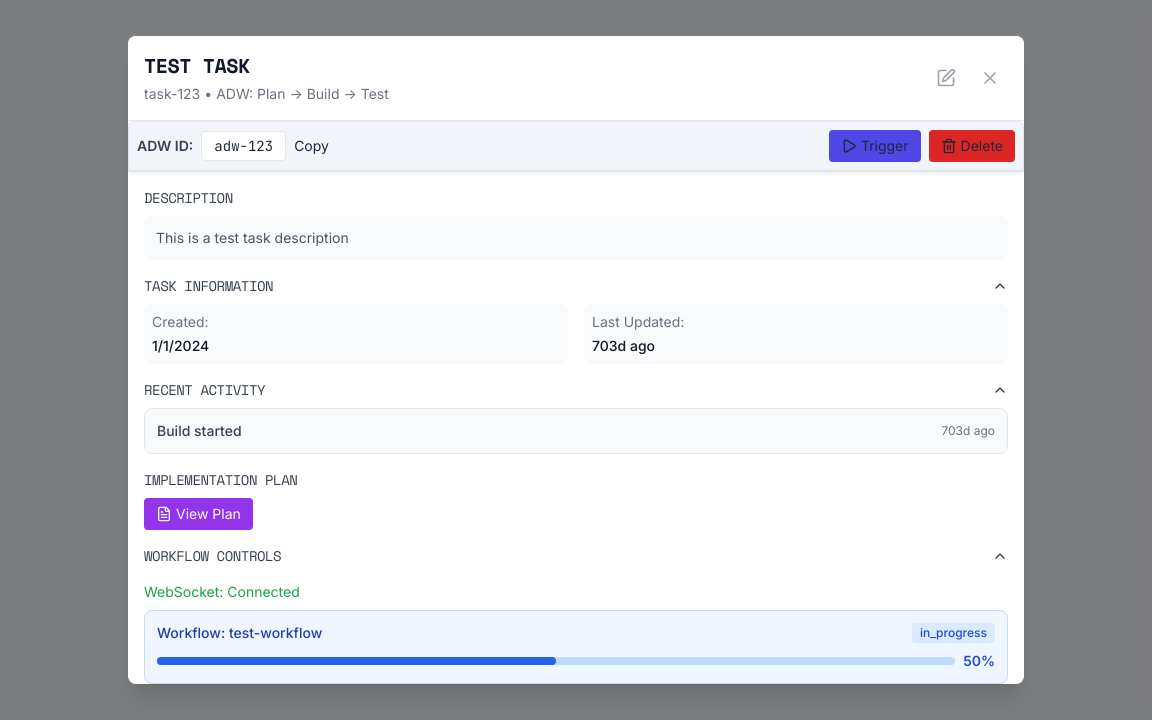
Scenario: TaskDetailsModal Component › Delete Worktree › should close confirmation dialog when cancel is clicked
Click the button "Delete".
click(972, 146)  # box x1=929 y1=130 x2=1015 y2=162
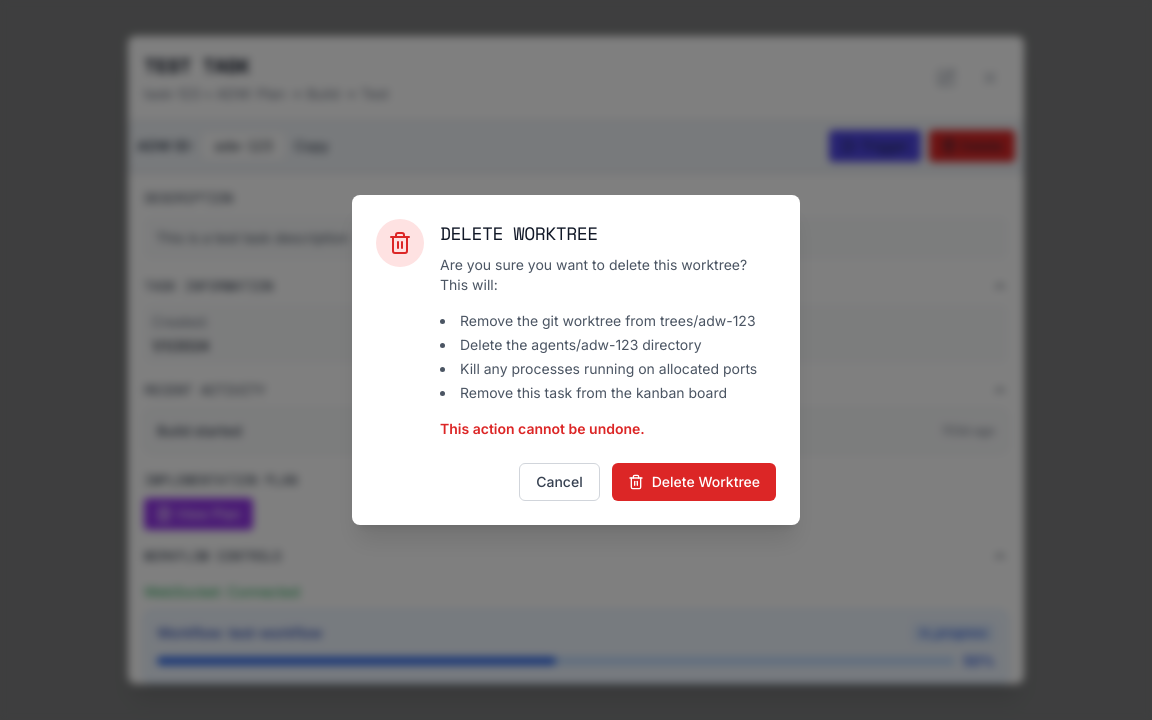
Click the button "Cancel".
click(559, 482)  # box x1=519 y1=463 x2=600 y2=501
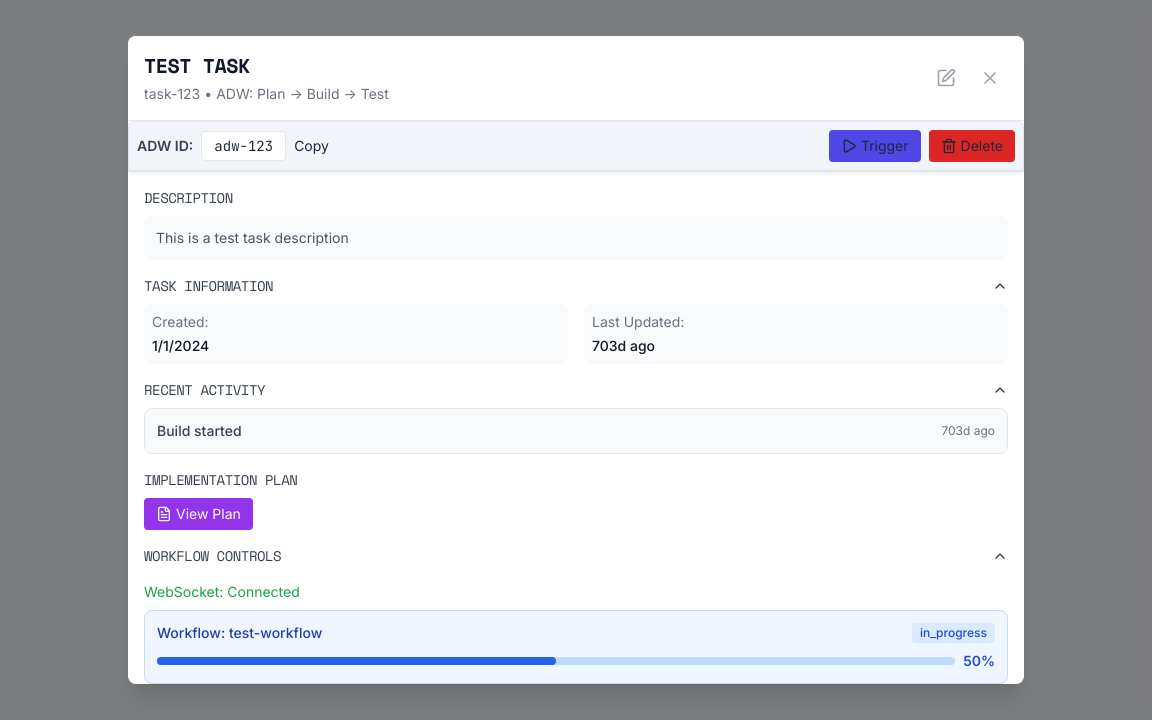
Check: the text "Are you sure you want to delete" is gone
